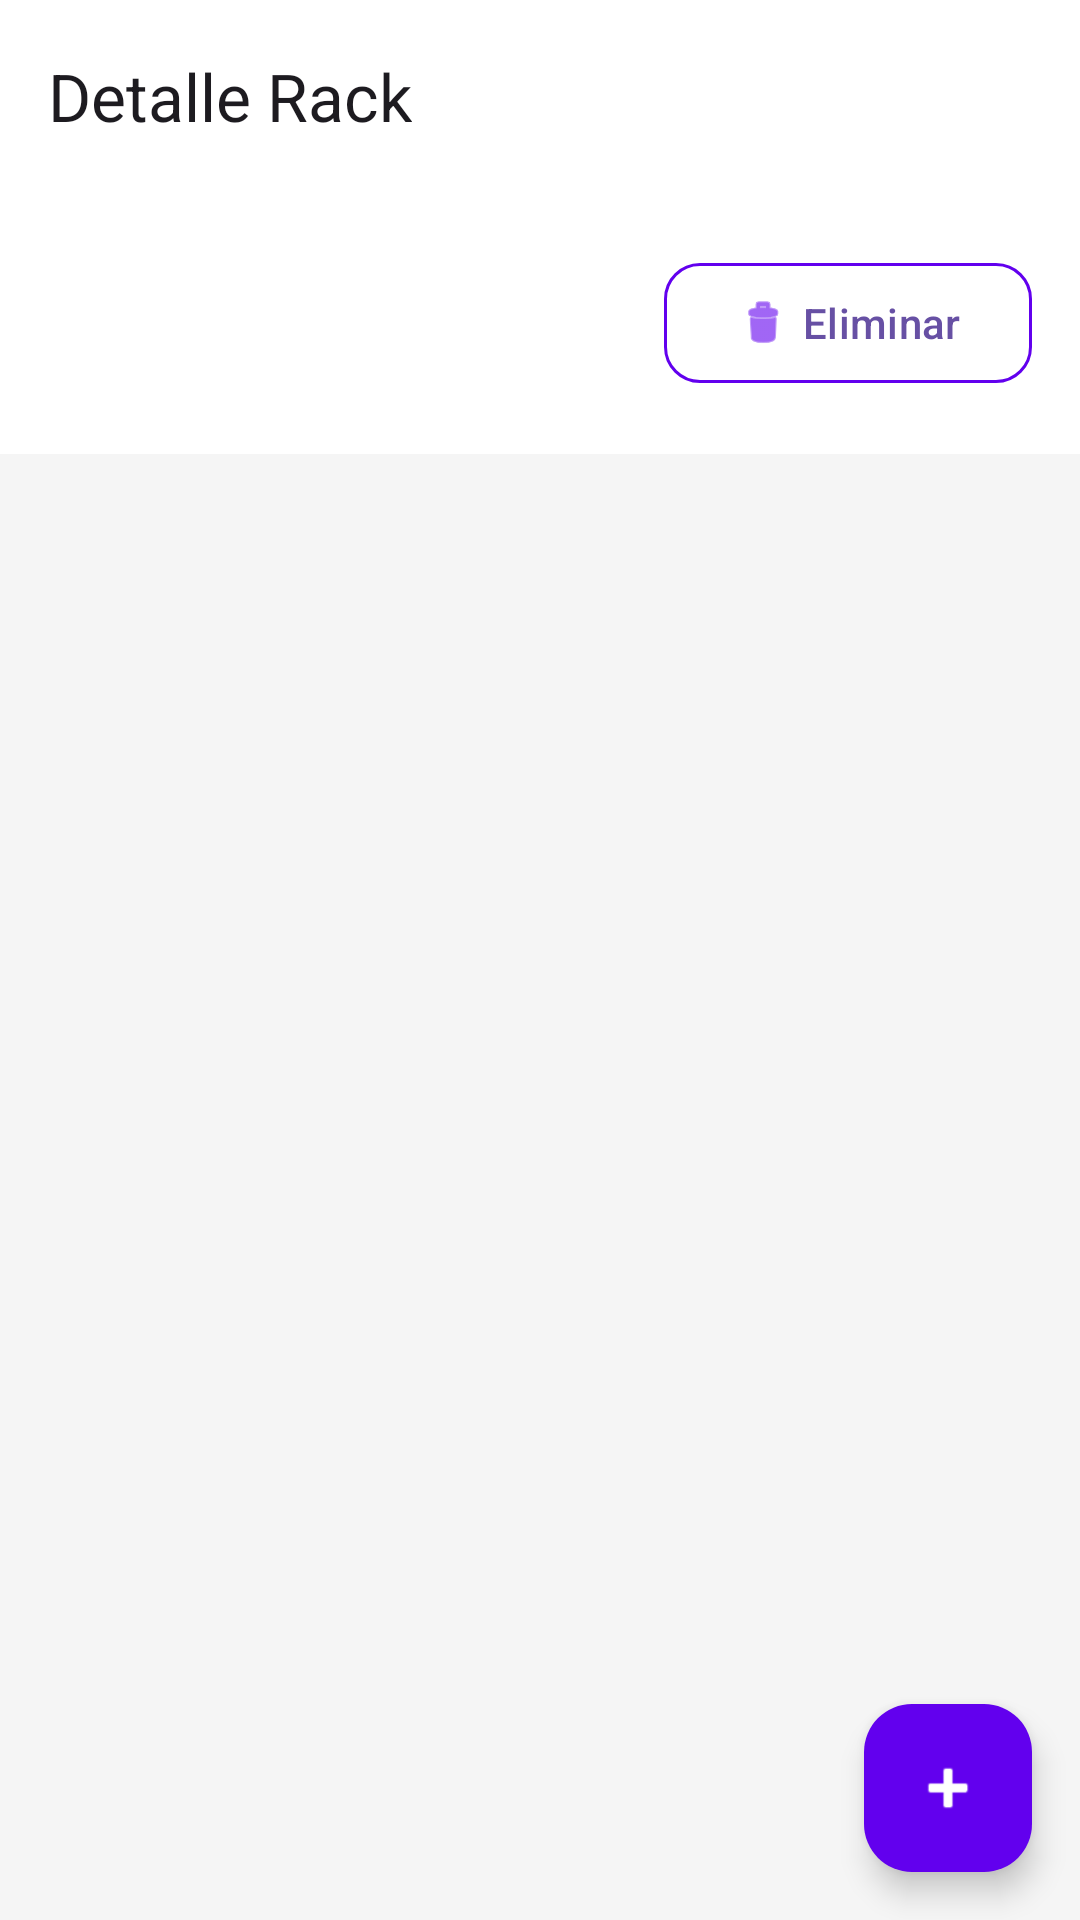

Icons on this 1080×1920 Android screen, each with its box as (x1, y1, x2, y2):
Añadir producto: (864, 1704, 1032, 1872)
